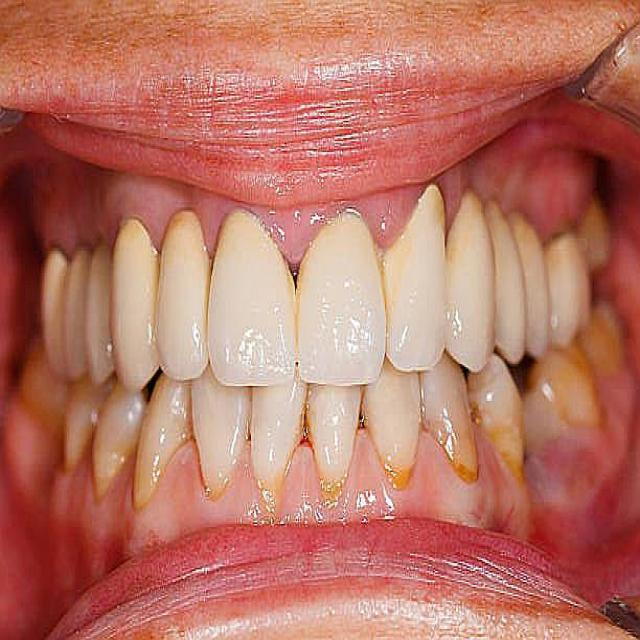bleeding: (180, 432, 215, 502), (286, 409, 324, 470)
swelling: (360, 197, 416, 266), (133, 194, 178, 261), (194, 206, 229, 263)
